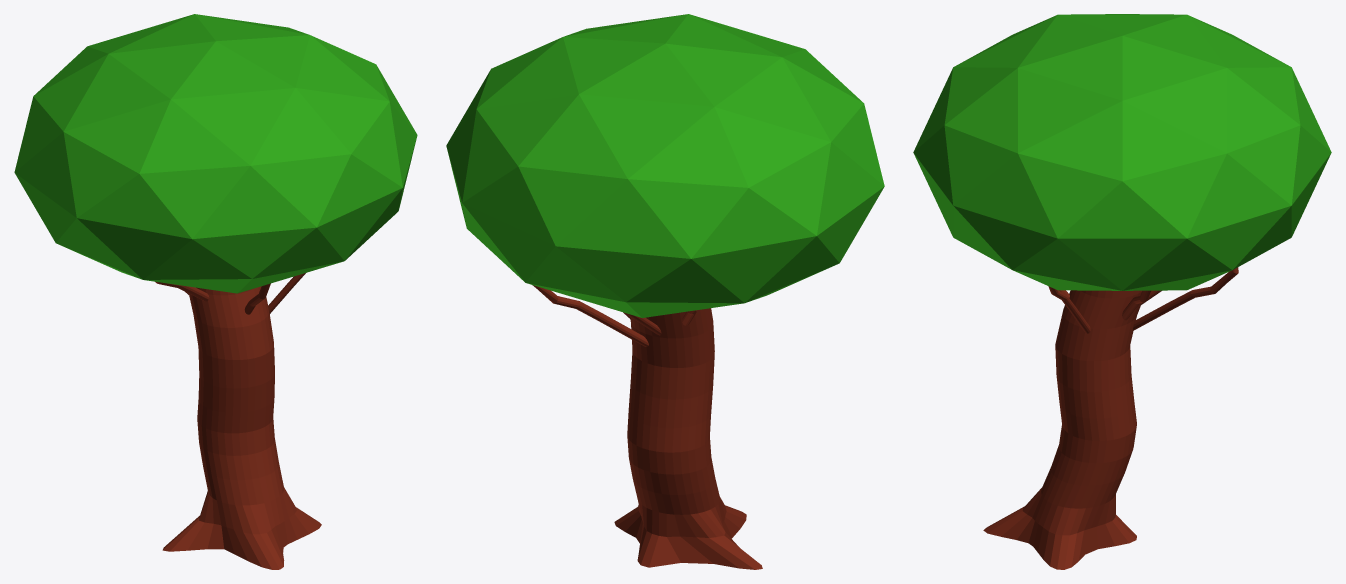
Rendered from Baum_6.fbx.
The picture shows the model from 3 angles, left to right: view 1: azimuth 30°, elevation 25°; view 2: azimuth 150°, elevation 25°; view 3: azimuth 270°, elevation 25°; orthographic projection. The views are drawn at different scales.
Parts seen in each view (by area): view 1: Icosphere, Cylinder.001; view 2: Icosphere, Cylinder.001; view 3: Icosphere, Cylinder.001.
Part boxes in pixels (x1,y1,x2,y2): Icosphere: (14,14,417,293); Cylinder.001: (155,273,321,569); Icosphere: (446,14,884,317); Cylinder.001: (532,285,762,569); Icosphere: (913,14,1331,290); Cylinder.001: (983,267,1238,569).
Bounding box in the file's own units: 461 × 618 × 472.
